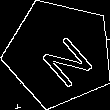N_NW: (27, 21, 92, 86)
